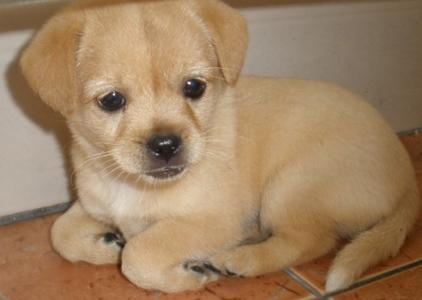dog: (17, 1, 419, 294)
